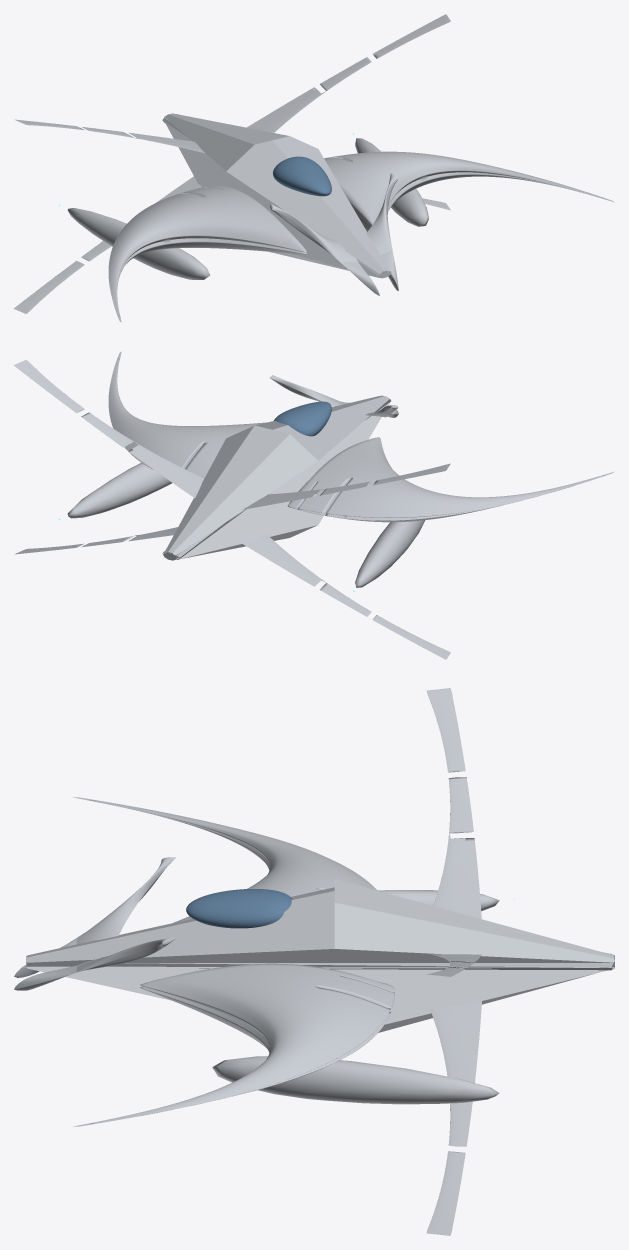
Rendered from Enemy009.glb.
The picture shows the model from 3 angles, top to bottom: view 1: azimuth 30°, elevation 25°; view 2: azimuth 150°, elevation 25°; view 3: azimuth 270°, elevation 25°; orthographic projection. The views are drawn at different scales.
Visible parts, largest first — view 1: assembly_02_WingMain, assembly_01_Body, assembly_04_Tail, assembly_06_EnginePod0, assembly_03_WingSub, assembly_05_Canopy; view 2: assembly_01_Body, assembly_02_WingMain, assembly_04_Tail, assembly_06_EnginePod0, assembly_05_Canopy, assembly_03_WingSub; view 3: assembly_01_Body, assembly_02_WingMain, assembly_04_Tail, assembly_06_EnginePod0, assembly_03_WingSub, assembly_05_Canopy.
Boxes of the visible parts, x1,y1,x2,y2 form: assembly_02_WingMain: [108, 151, 614, 322]; assembly_01_Body: [162, 113, 391, 278]; assembly_04_Tail: [14, 14, 450, 313]; assembly_06_EnginePod0: [59, 133, 428, 279]; assembly_03_WingSub: [269, 173, 398, 295]; assembly_05_Canopy: [273, 156, 331, 196]; assembly_01_Body: [162, 395, 391, 560]; assembly_02_WingMain: [108, 351, 614, 522]; assembly_04_Tail: [14, 360, 450, 659]; assembly_06_EnginePod0: [59, 462, 424, 591]; assembly_05_Canopy: [274, 401, 331, 436]; assembly_03_WingSub: [269, 375, 398, 417]; assembly_01_Body: [26, 879, 614, 1032]; assembly_02_WingMain: [73, 797, 394, 1126]; assembly_04_Tail: [426, 688, 481, 1235]; assembly_06_EnginePod0: [212, 890, 514, 1104]; assembly_03_WingSub: [14, 857, 176, 990]; assembly_05_Canopy: [186, 889, 292, 928].
Bounding box in the file's own units: 4.81 × 1.76 × 3.71.
